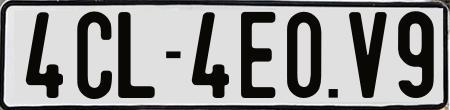0: (286, 12, 321, 103)
4: (24, 9, 67, 97), (190, 9, 231, 98)
9: (397, 10, 436, 102)
C: (77, 10, 114, 101)
E: (241, 9, 279, 100)
L: (117, 12, 158, 101)
V: (347, 10, 385, 102)
